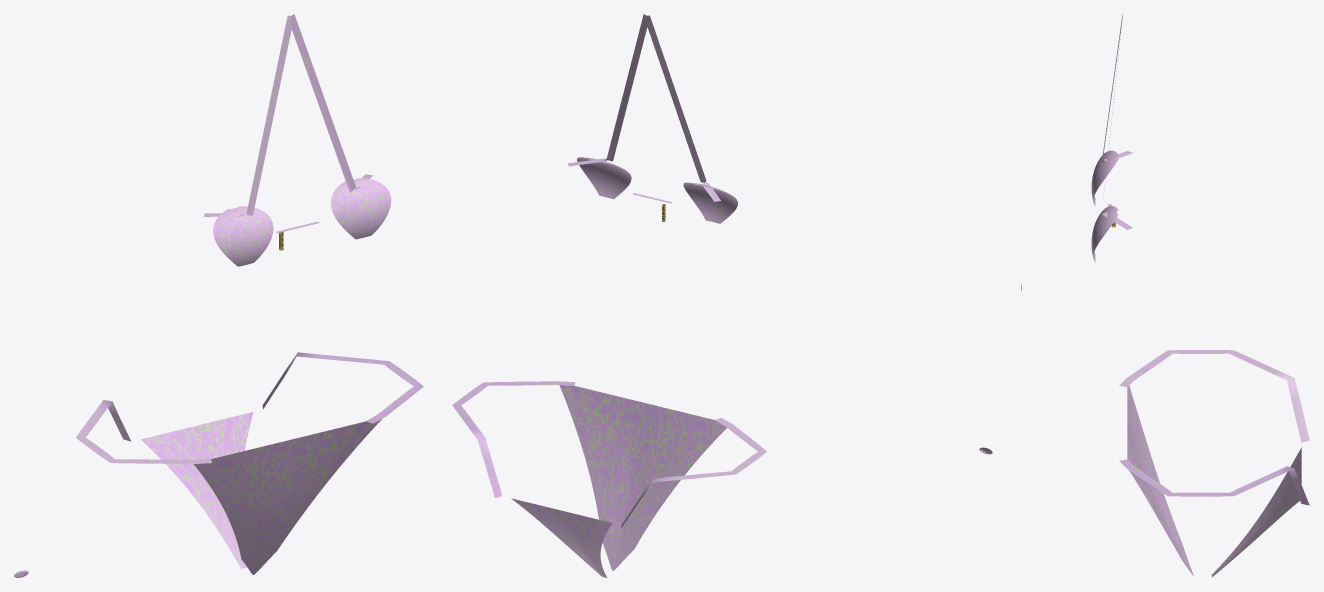
File: bikini_c91ff795.obj
3 renders of one model, left to right at view 1: azimuth 30°, elevation 25°; view 2: azimuth 150°, elevation 25°; view 3: azimuth 270°, elevation 25°, orthographic. The views are drawn at different scales.
Parts seen in each view (by area): view 1: bottom_front_highcut, bottom_back_thong, cup_right_triangle, cup_left_triangle, strap_left_halter, strap_right_halter, bottom_strap_left_tie, bottom_strap_right_tie; view 2: bottom_front_highcut, bottom_back_thong, bottom_strap_right_tie, cup_right_triangle, strap_left_halter, cup_left_triangle, strap_right_halter, bottom_strap_left_tie; view 3: bottom_front_highcut, bottom_back_thong, bottom_strap_left_tie, bottom_strap_right_tie, cup_left_triangle, cup_right_triangle.
Boxes of the visible parts, x1=… form: bottom_front_highcut: x1=193, y1=419, x2=381, y2=574; bottom_back_thong: x1=141, y1=412, x2=253, y2=568; cup_right_triangle: x1=331, y1=178, x2=391, y2=239; cup_left_triangle: x1=213, y1=206, x2=273, y2=266; strap_left_halter: x1=203, y1=15, x2=291, y2=216; strap_right_halter: x1=291, y1=14, x2=372, y2=192; bottom_strap_left_tie: x1=76, y1=400, x2=211, y2=464; bottom_strap_right_tie: x1=262, y1=352, x2=423, y2=423; bottom_front_highcut: x1=559, y1=385, x2=726, y2=570; bottom_back_thong: x1=511, y1=498, x2=612, y2=577; bottom_strap_right_tie: x1=452, y1=381, x2=575, y2=497; cup_right_triangle: x1=577, y1=157, x2=631, y2=199; strap_left_halter: x1=644, y1=15, x2=720, y2=201; cup_left_triangle: x1=683, y1=182, x2=737, y2=223; strap_right_halter: x1=567, y1=14, x2=649, y2=166; bottom_strap_left_tie: x1=621, y1=418, x2=766, y2=528; bottom_front_highcut: x1=1127, y1=386, x2=1193, y2=575; bottom_back_thong: x1=1211, y1=447, x2=1301, y2=577; bottom_strap_left_tie: x1=1119, y1=350, x2=1309, y2=442; bottom_strap_right_tie: x1=1119, y1=459, x2=1309, y2=505; cup_left_triangle: x1=1091, y1=150, x2=1118, y2=206; cup_right_triangle: x1=1091, y1=206, x2=1118, y2=262.
Bounding box in the file's own units: 0.6827 × 0.7875 × 0.3674.
Materials: 2 (1 with a texture image).
